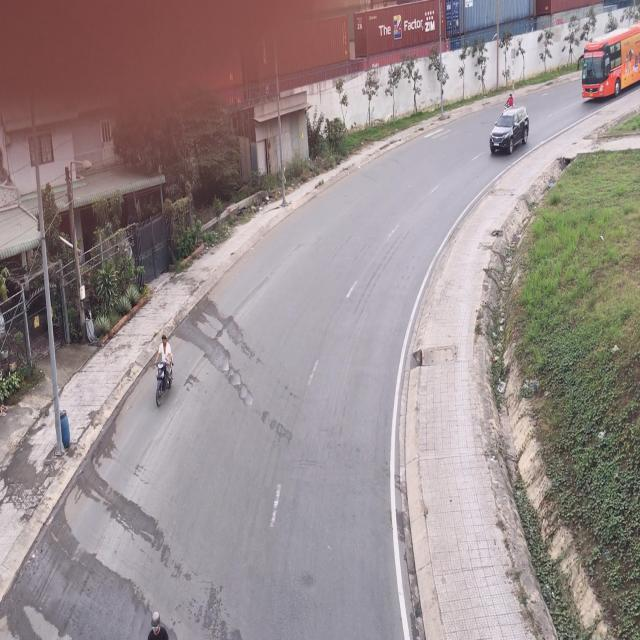bus: (580, 30, 640, 104)
car: (487, 105, 528, 157)
motorbike: (154, 334, 177, 406)
